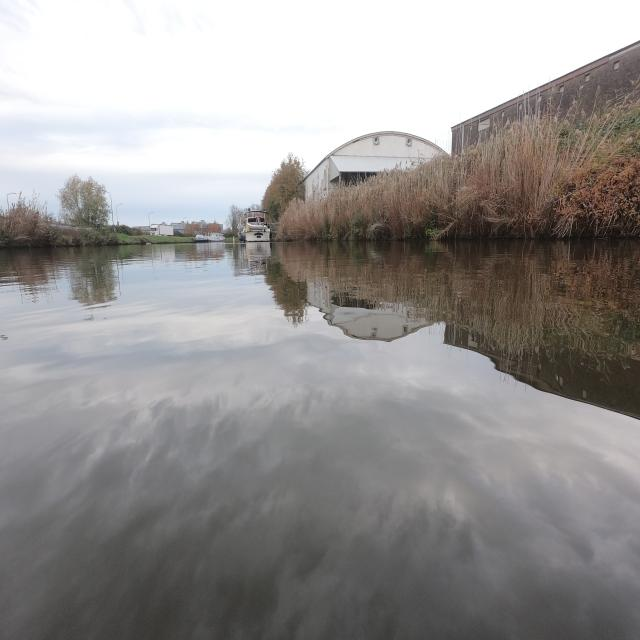boat: (242, 210, 271, 241), (196, 233, 223, 241)
grass: (116, 233, 194, 243)
reed: (276, 104, 639, 239), (1, 201, 116, 247)
sky: (0, 2, 638, 222)
water: (1, 237, 638, 639)
